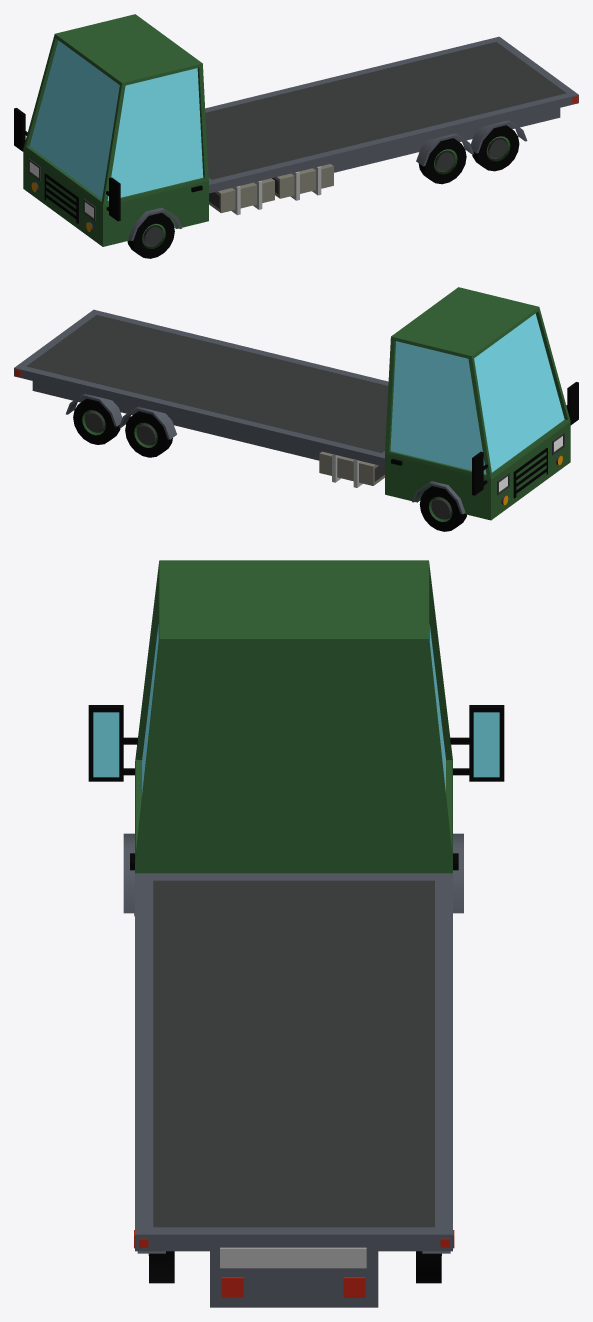
File: car7B.FBX
The picture shows the model from 3 angles, top to bottom: view 1: azimuth 30°, elevation 25°; view 2: azimuth 150°, elevation 25°; view 3: azimuth 270°, elevation 25°; orthographic projection. The views are drawn at different scales.
Visible parts, largest first — view 1: car7B; view 2: car7B; view 3: car7B.
Boxes of the visible parts, left/top/right/bottom form: car7B: left=14, top=14, right=578, bottom=258; car7B: left=14, top=287, right=578, bottom=531; car7B: left=88, top=560, right=504, bottom=1307.
Size of the model in its own units: 17.4 by 6.13 by 6.53.
